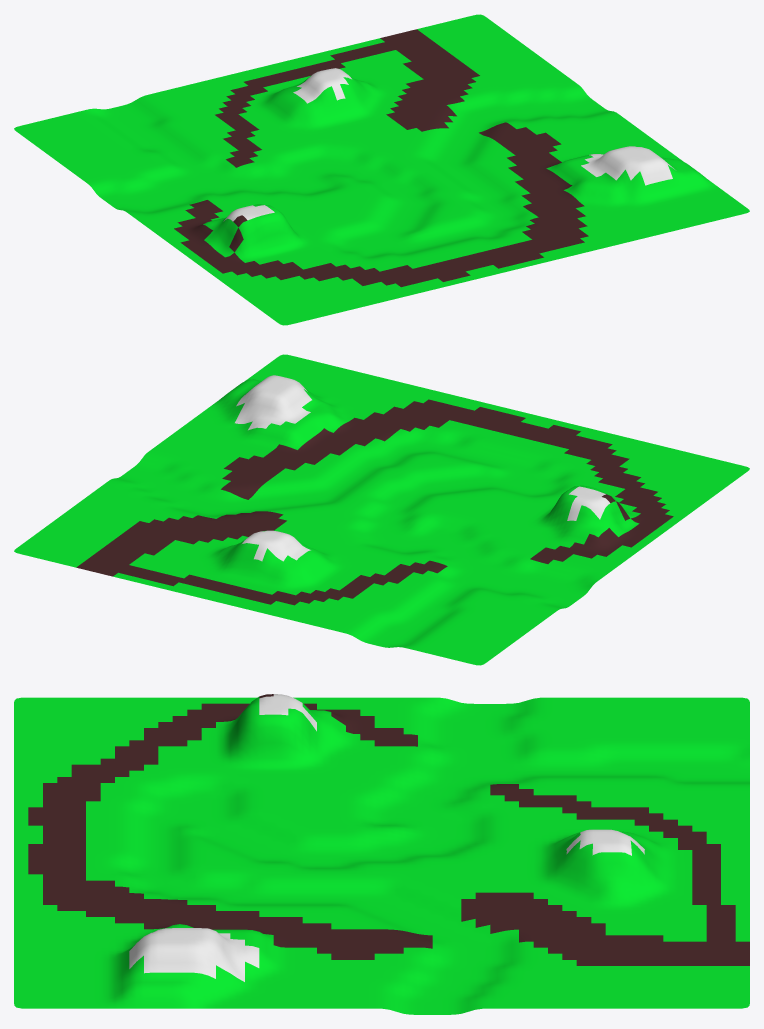
The model's file is PROTOTYPEISLAND 2.fbx.
3 renders of one model, top to bottom at view 1: azimuth 30°, elevation 25°; view 2: azimuth 150°, elevation 25°; view 3: azimuth 270°, elevation 25°, orthographic. The views are drawn at different scales.
Visible parts, largest first — view 1: Plane; view 2: Plane; view 3: Plane.
Part boxes in pixels (left/top/right/bottom): Plane: left=14, top=14, right=749, bottom=325; Plane: left=14, top=354, right=749, bottom=665; Plane: left=14, top=694, right=749, bottom=1014.
Bounding box in the file's own units: 31262 × 2065 × 31262.
